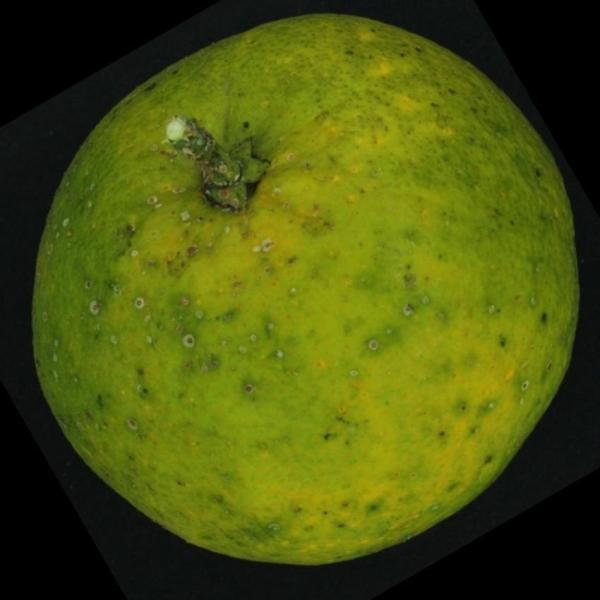Greening: (20, 0, 582, 574)
